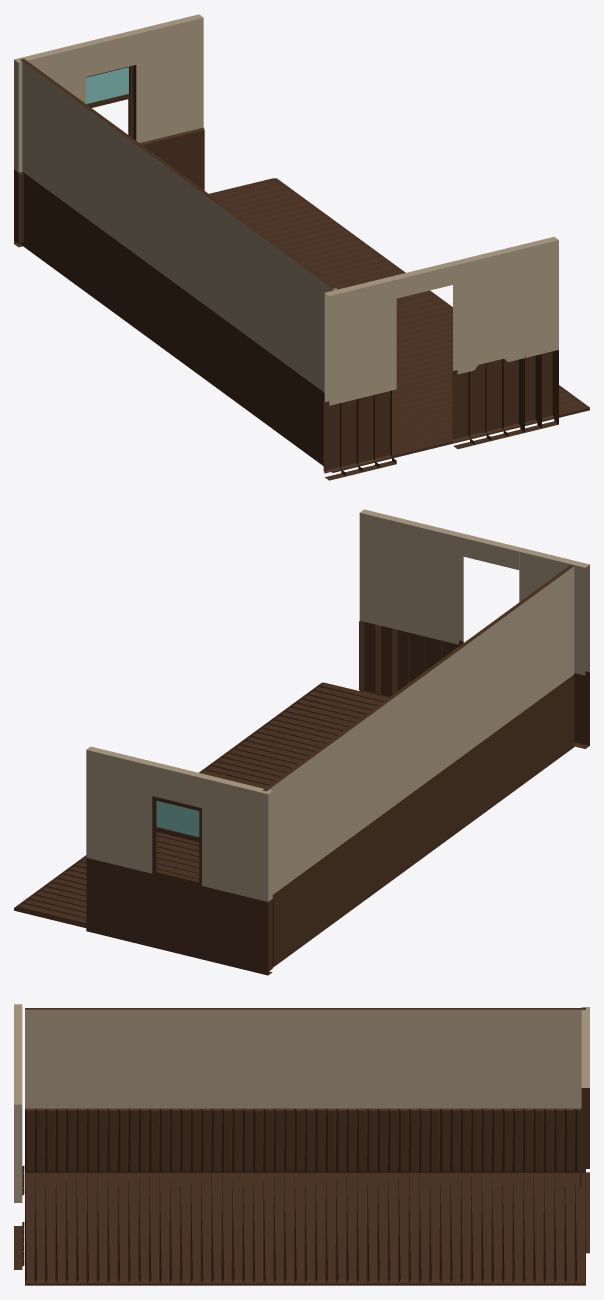
The model's file is komnata.fbx.
3 renders of one model, top to bottom at view 1: azimuth 30°, elevation 25°; view 2: azimuth 150°, elevation 25°; view 3: azimuth 270°, elevation 25°, orthographic. The views are drawn at different scales.
Parts seen in each view (by area): view 1: komnata; view 2: komnata; view 3: komnata.
Boxes of the visible parts, bbox=[...] form: komnata: bbox=[14, 14, 589, 480]; komnata: bbox=[14, 509, 589, 975]; komnata: bbox=[14, 1004, 589, 1285].
Size of the model in its own units: 96.34 by 63.85 by 201.
